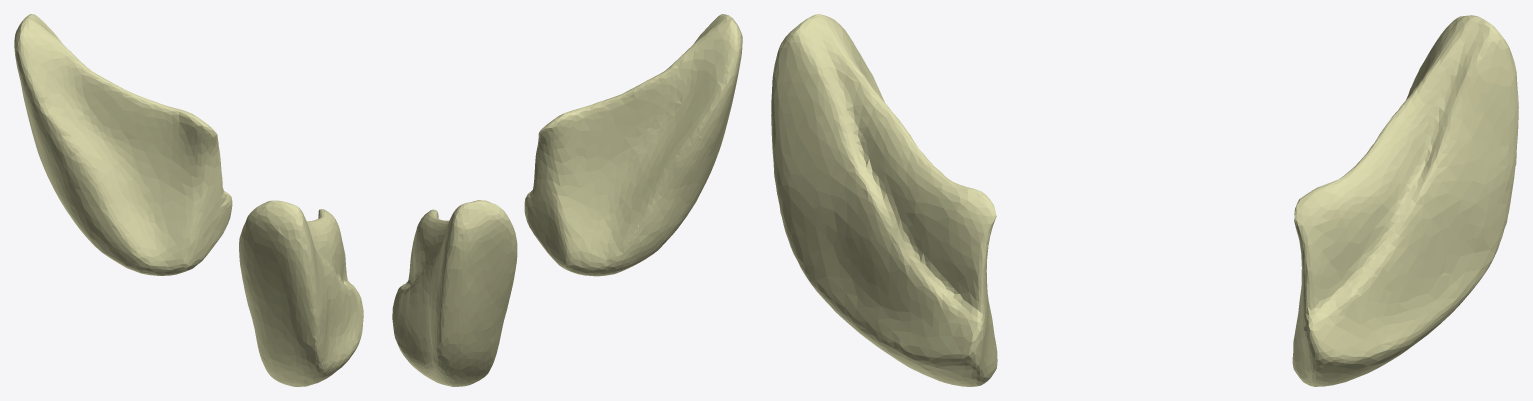
The picture shows the model from 3 angles, left to right: view 1: azimuth 30°, elevation 25°; view 2: azimuth 150°, elevation 25°; view 3: azimuth 270°, elevation 25°; orthographic projection. The views are drawn at different scales.
Visible parts, largest first — view 1: 1007.obj; view 2: 1007.obj; view 3: 1007.obj.
Boxes of the visible parts, x1,y1,x2,y2 form: 1007.obj: (14,14,363,386); 1007.obj: (392,14,742,386); 1007.obj: (771,14,1518,386).
Bounding box in the file's own units: 2272 × 3089 × 6736.
